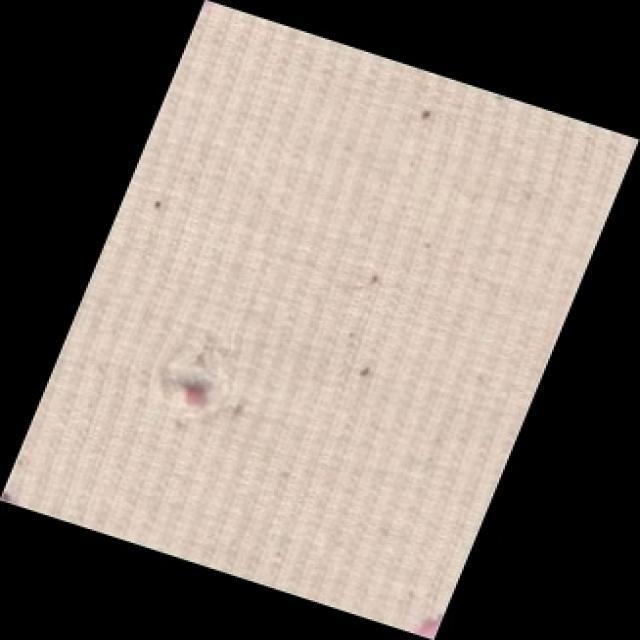other: (168, 340, 226, 418)
